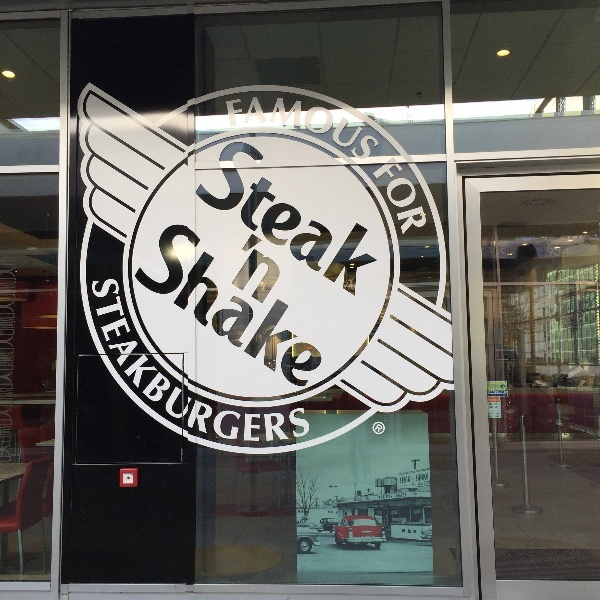text: (129, 278, 144, 528), (145, 278, 160, 528), (161, 278, 176, 528), (177, 278, 192, 528), (193, 278, 208, 528), (209, 278, 224, 528), (225, 278, 240, 528), (241, 278, 256, 528), (257, 278, 272, 528), (273, 278, 288, 528), (289, 278, 304, 528), (225, 37, 240, 240), (241, 37, 256, 240), (257, 37, 272, 240), (273, 37, 288, 240), (289, 37, 304, 240), (305, 37, 320, 240), (321, 37, 336, 240), (337, 37, 352, 240), (353, 37, 368, 240), (369, 37, 384, 240), (385, 37, 400, 240), (401, 37, 416, 240), (417, 37, 432, 240), (433, 37, 448, 240), (117, 278, 128, 528), (241, 134, 256, 315), (257, 134, 272, 315), (273, 134, 288, 315), (289, 134, 304, 315), (305, 134, 320, 315), (321, 134, 336, 315), (337, 134, 352, 315), (353, 134, 368, 315), (369, 134, 384, 315), (193, 213, 208, 390), (209, 213, 224, 390), (225, 213, 240, 390), (241, 213, 256, 390), (257, 213, 272, 390), (273, 213, 288, 390), (289, 213, 304, 390), (305, 213, 320, 390), (449, 37, 462, 240), (179, 213, 192, 390), (321, 213, 334, 390), (305, 278, 314, 528), (215, 37, 224, 240), (257, 232, 272, 305), (273, 232, 288, 305), (234, 134, 240, 315), (385, 134, 388, 315), (249, 232, 256, 305), (289, 232, 291, 305), (401, 476, 416, 484), (337, 497, 352, 504), (353, 497, 368, 504), (417, 473, 429, 481), (324, 497, 336, 504), (376, 424, 384, 433), (419, 481, 432, 486), (488, 383, 496, 390), (497, 390, 506, 394), (385, 495, 393, 499), (488, 390, 496, 394), (488, 398, 496, 402), (401, 493, 406, 498), (378, 496, 384, 500), (328, 511, 336, 514), (497, 383, 500, 390), (396, 493, 400, 498), (415, 473, 416, 481), (497, 398, 499, 402), (369, 497, 370, 504)
